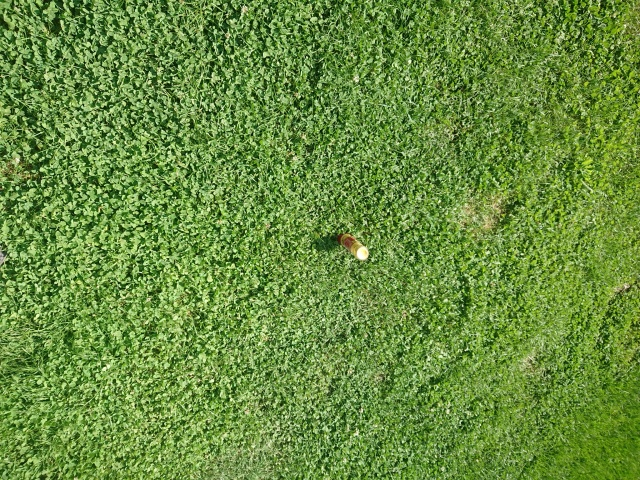Kotanyi Curry Spices Mix 70g: (336, 230, 370, 263)
